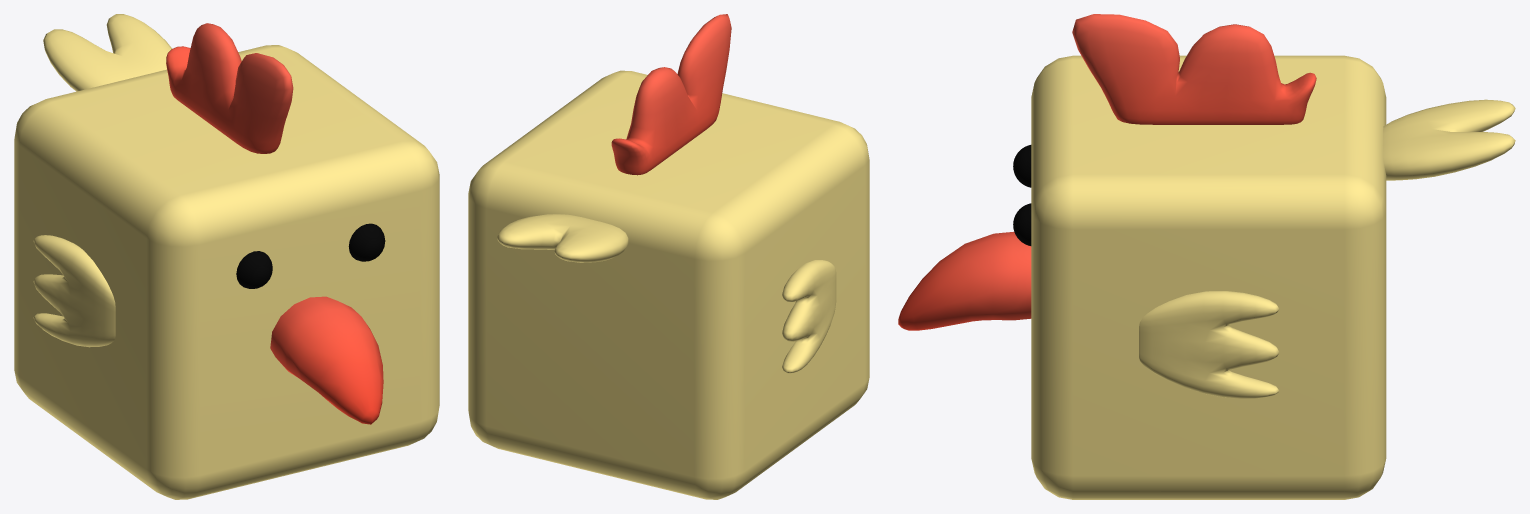
File: Chicken.fbx
3 views of the same model, side by side, from view 1: azimuth 30°, elevation 25°; view 2: azimuth 150°, elevation 25°; view 3: azimuth 270°, elevation 25° (orthographic). The views are drawn at different scales.
Parts seen in each view (by area): view 1: Chicken; view 2: Chicken; view 3: Chicken.
Boxes of the visible parts, x1=… form: Chicken: x1=14, y1=14, x2=439, y2=499; Chicken: x1=468, y1=14, x2=869, y2=499; Chicken: x1=898, y1=14, x2=1515, y2=499.
Bounding box in the file's own units: 1.14 × 1.32 × 1.74.
